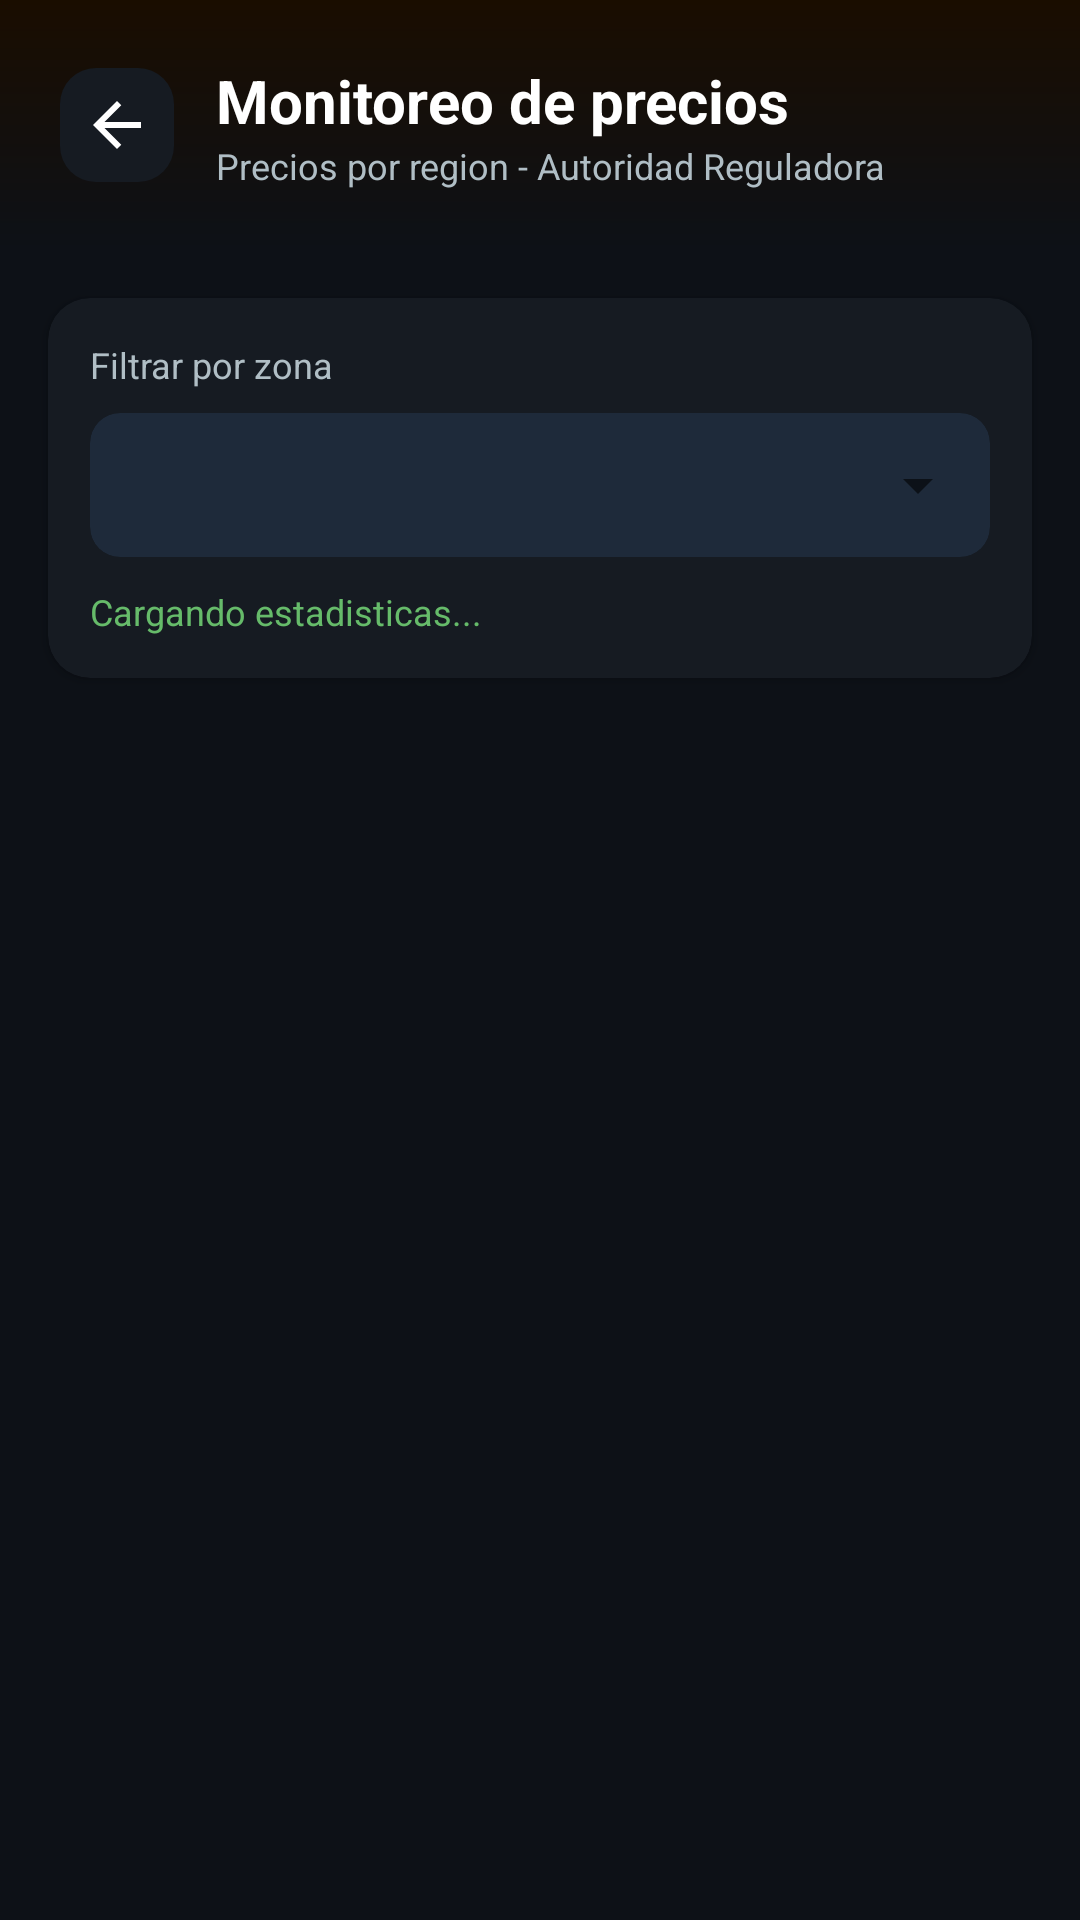

Named icons in this screenshot (1080*1920) and their centers, [x,y]:
Volver: [117,125]
